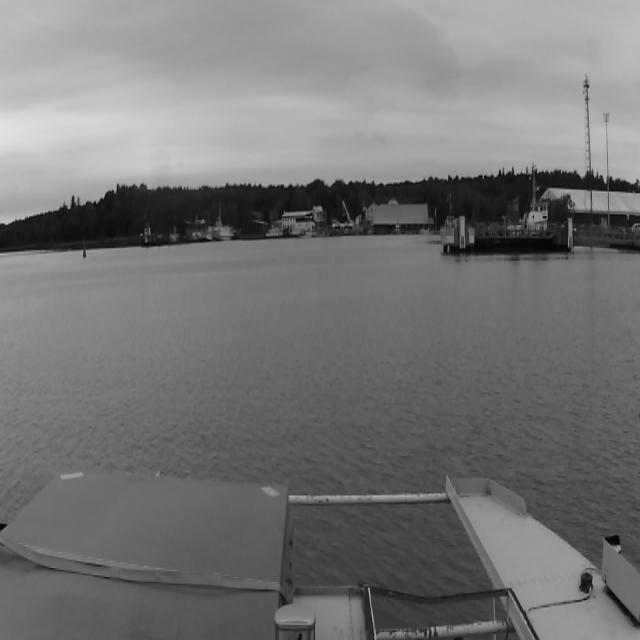buoy: (81, 242, 87, 260)
ship: (465, 195, 557, 253), (212, 204, 235, 240)
